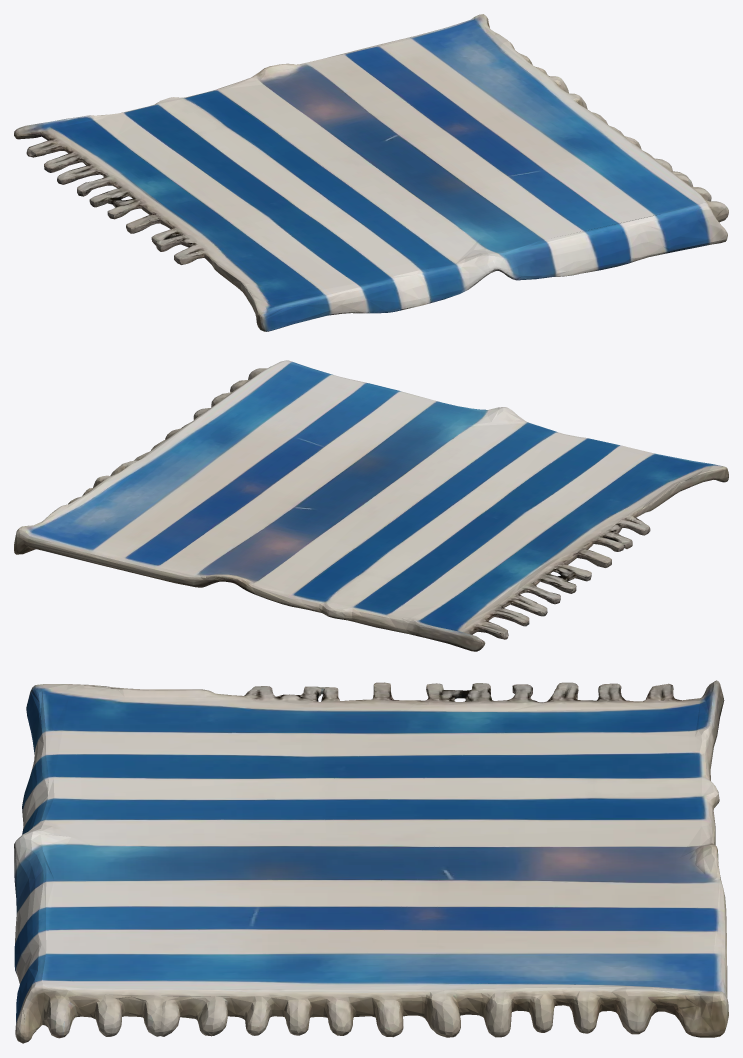
3 renders of one model, top to bottom at view 1: azimuth 30°, elevation 25°; view 2: azimuth 150°, elevation 25°; view 3: azimuth 270°, elevation 25°, orthographic. The views are drawn at different scales.
Visible parts, largest first — view 1: world; view 2: world; view 3: world.
Boxes of the visible parts, box(x1,y1,x2,y2) form: world: box(14, 14, 728, 331); world: box(14, 360, 728, 651); world: box(14, 680, 728, 1043).
Bounding box in the file's own units: 0.9975 × 0.0823 × 0.9201.
Materials: 1 (1 with a texture image).
